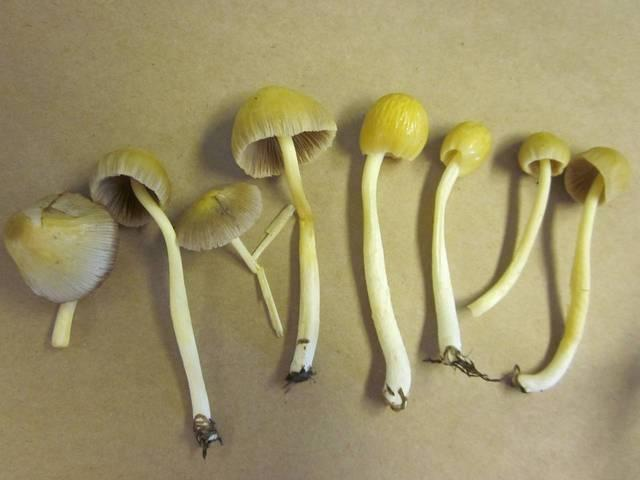edible_mushroom: (87, 145, 223, 458), (229, 84, 338, 382), (357, 91, 429, 410), (3, 190, 119, 348), (172, 180, 285, 338), (516, 129, 638, 253), (432, 110, 495, 224)
